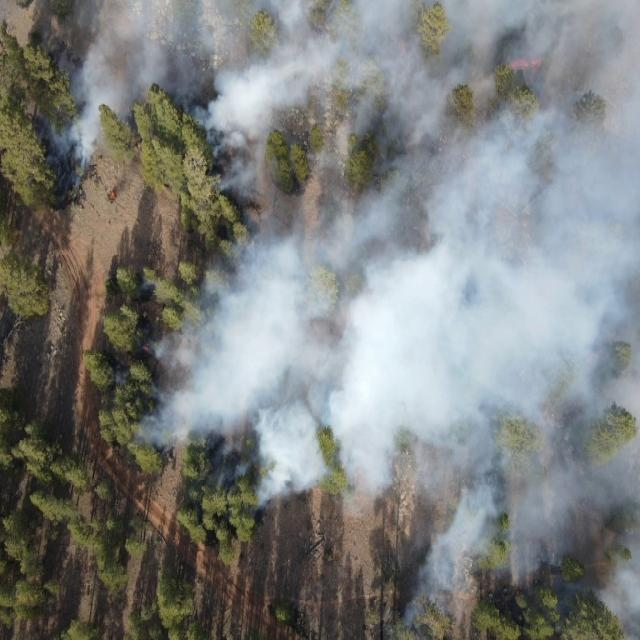fire: (508, 57, 542, 69), (396, 34, 408, 54), (140, 340, 153, 354), (107, 192, 119, 202), (514, 589, 522, 596)
smoke: (218, 182, 640, 507), (46, 0, 640, 182), (418, 507, 640, 602), (128, 266, 218, 464), (601, 600, 640, 640), (392, 598, 418, 638), (106, 367, 128, 388)
